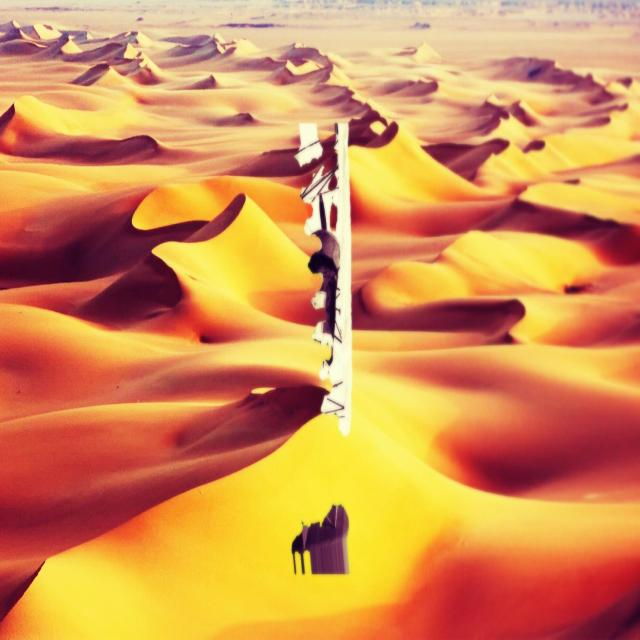airplane: (290, 121, 351, 575)
